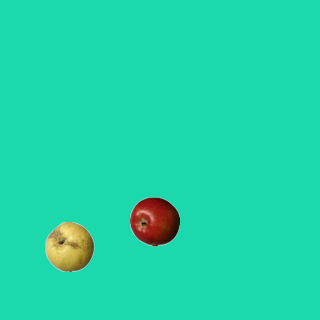Apple Braeburn: (129, 196, 179, 246)
Apple Golden 1: (44, 221, 94, 271)
